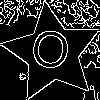O: (27, 27, 73, 80)
